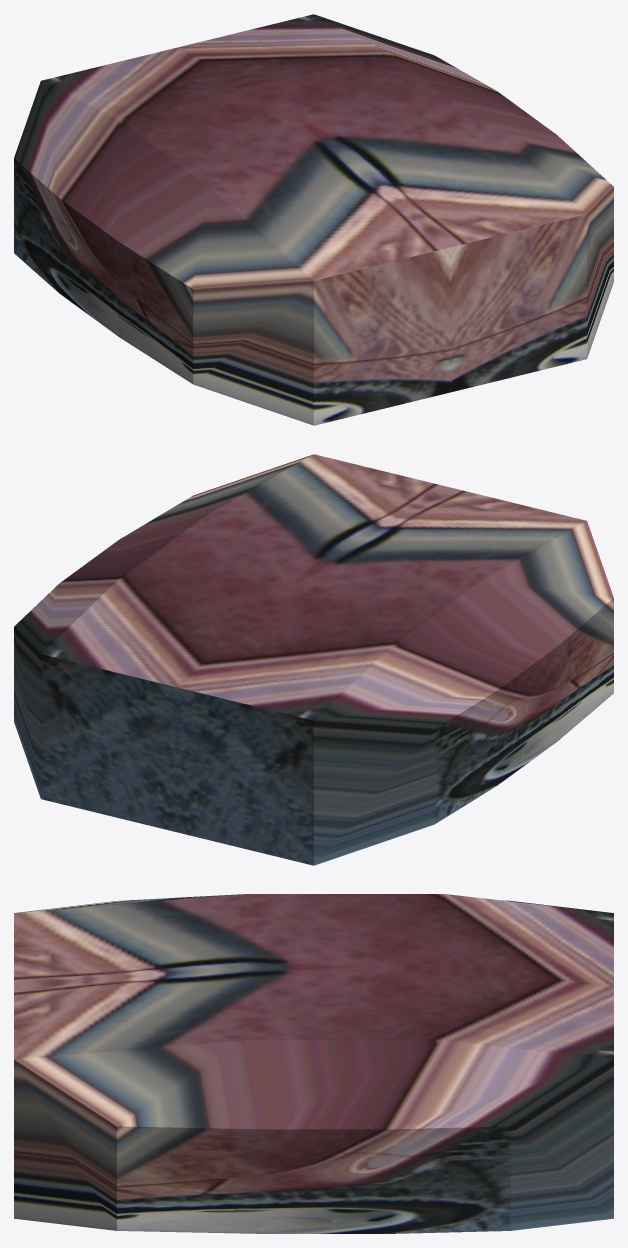
3 renders of one model, top to bottom at view 1: azimuth 30°, elevation 25°; view 2: azimuth 150°, elevation 25°; view 3: azimuth 270°, elevation 25°, orthographic. The views are drawn at different scales.
Parts seen in each view (by area): view 1: Body-1_Cube.001; view 2: Body-1_Cube.001; view 3: Body-1_Cube.001.
Boxes of the visible parts, box(x1,y1,x2,y2) form: Body-1_Cube.001: box(14, 14, 613, 425); Body-1_Cube.001: box(14, 454, 613, 865); Body-1_Cube.001: box(14, 894, 613, 1233).
Bounding box in the file's own units: 11.29 × 4.26 × 12.19.
